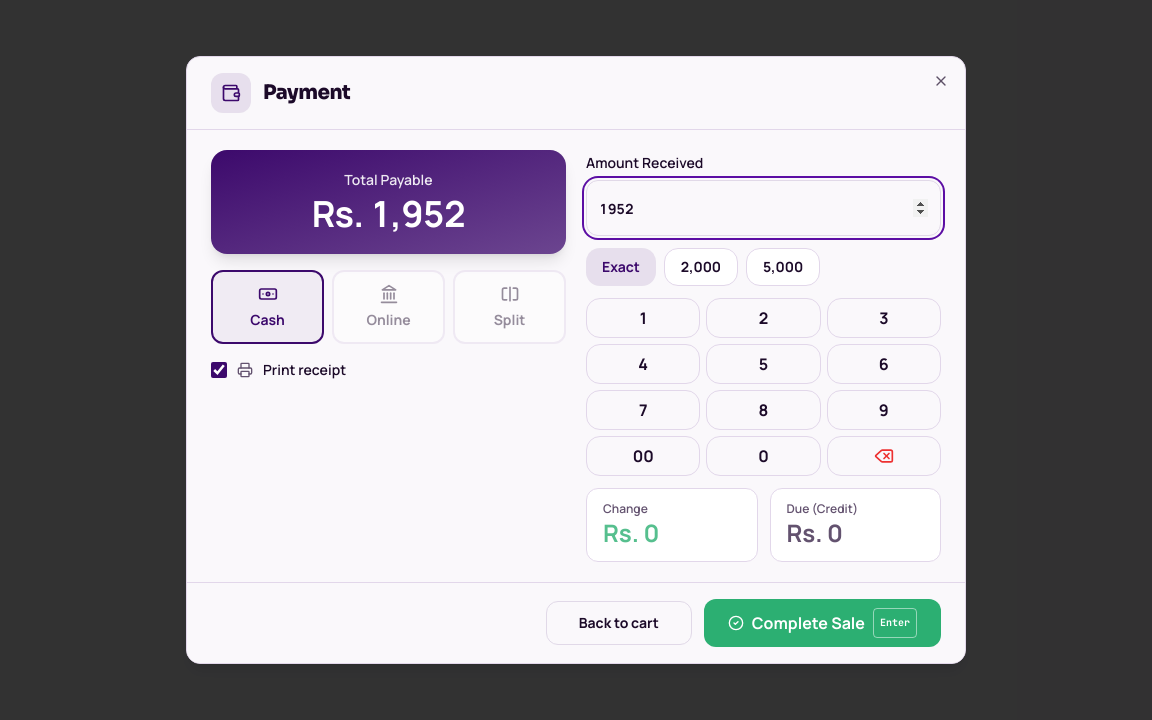
Test: the premium screen › cash with change; Enter completes; the print box travels with the result
Later steps or results of the test are not shown.
Click the button "5,000": x=783, y=267 [746,248,820,286]
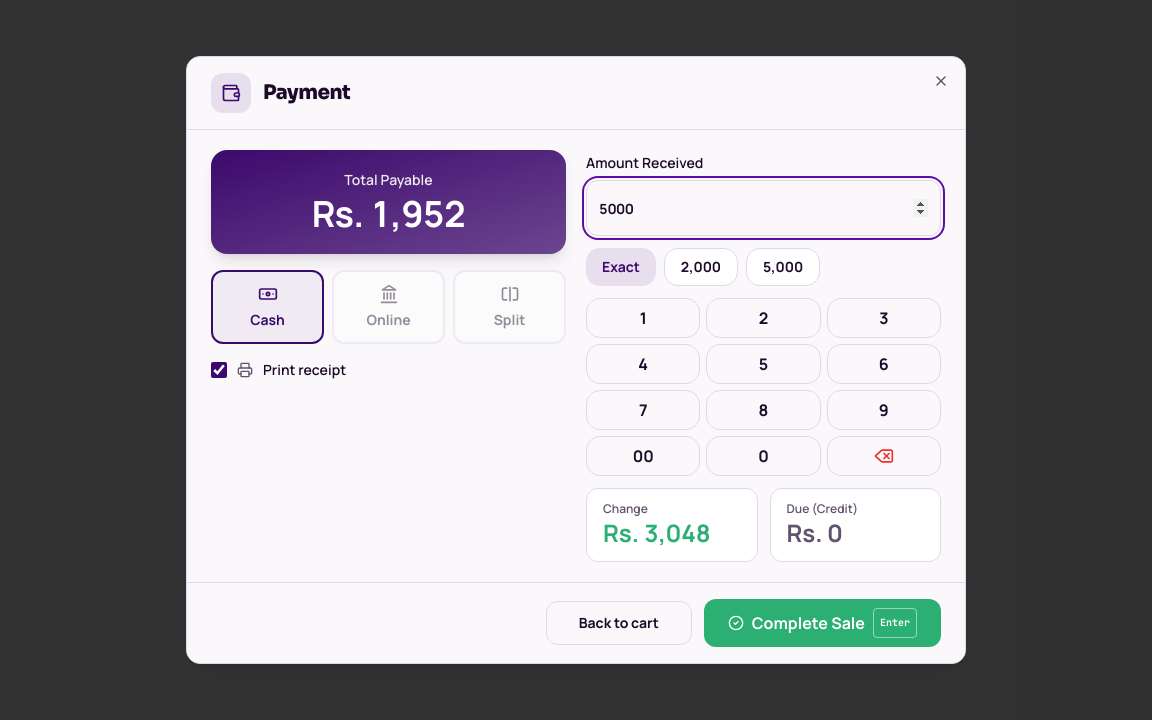
Check: the element showing "Due (Credit) Rs. 0" is shown, box [770,488,941,562]
Check: the element showing "Change Rs. 3,048" is shown, box [586,488,758,562]
